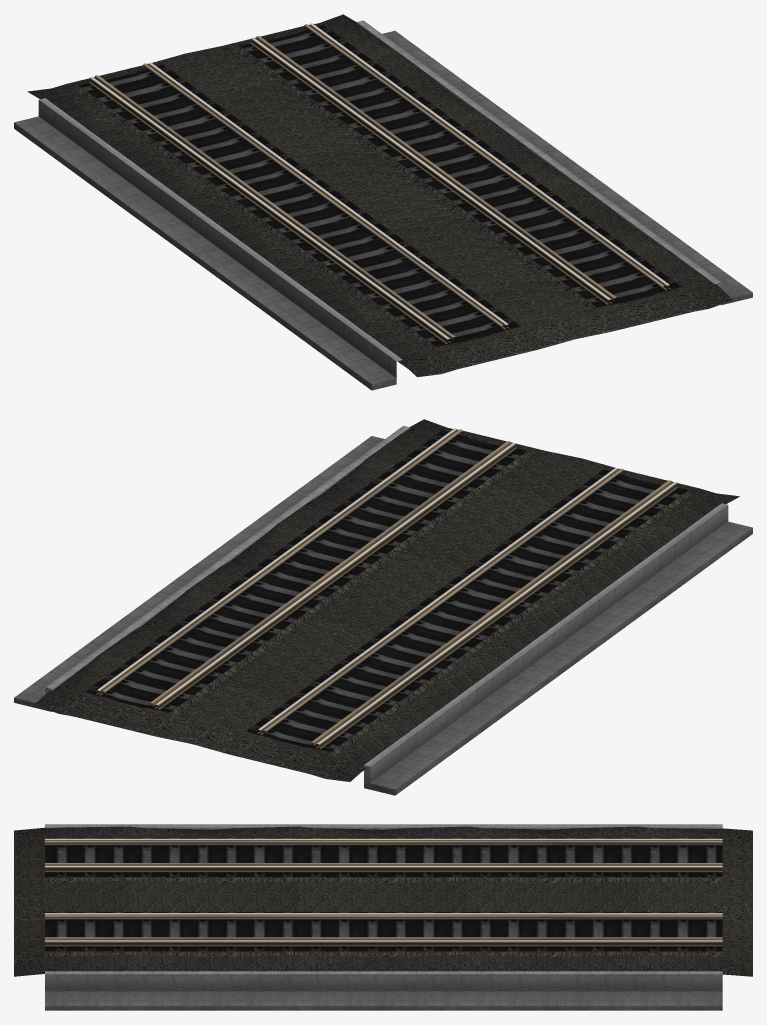
File: KH_RAIL00_50.glb
The picture shows the model from 3 angles, top to bottom: view 1: azimuth 30°, elevation 25°; view 2: azimuth 150°, elevation 25°; view 3: azimuth 270°, elevation 25°; orthographic projection. The views are drawn at different scales.
Visible parts, largest first — view 1: Jari_All, R000_RG_R, R000_RG_L; view 2: Jari_All, R000_RG_R, R000_RG_L; view 3: Jari_All, R000_RG_R, R000_RG_L.
Part boxes in pixels (x1=…): Jari_All: x1=14, y1=14, x2=752, y2=390; R000_RG_R: x1=95, y1=36, x2=616, y2=340; R000_RG_L: x1=143, y1=24, x2=664, y2=326; Jari_All: x1=14, y1=419, x2=752, y2=795; R000_RG_R: x1=150, y1=441, x2=671, y2=746; R000_RG_L: x1=102, y1=429, x2=623, y2=733; Jari_All: x1=14, y1=824, x2=752, y2=1010; R000_RG_R: x1=45, y1=840, x2=722, y2=918; R000_RG_L: x1=45, y1=863, x2=722, y2=940.
Bounding box in the file's own units: 30.76 × 2.55 × 54.53.
7 materials, 6 textured.
